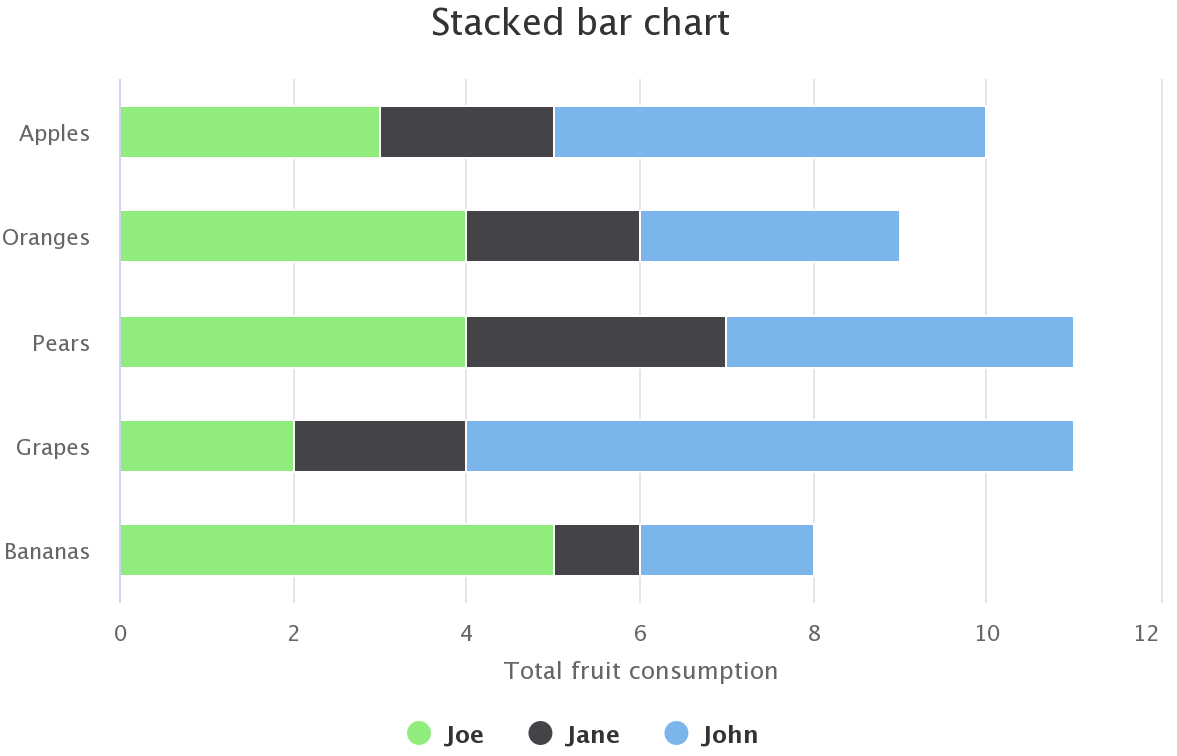canvas: (120, 89, 1143, 600)
legend: (384, 713, 782, 756)
title: (416, 1, 749, 46)
x-labels: (103, 616, 1170, 653)
x-title: (496, 655, 787, 689)
y-labels: (1, 99, 97, 589)
